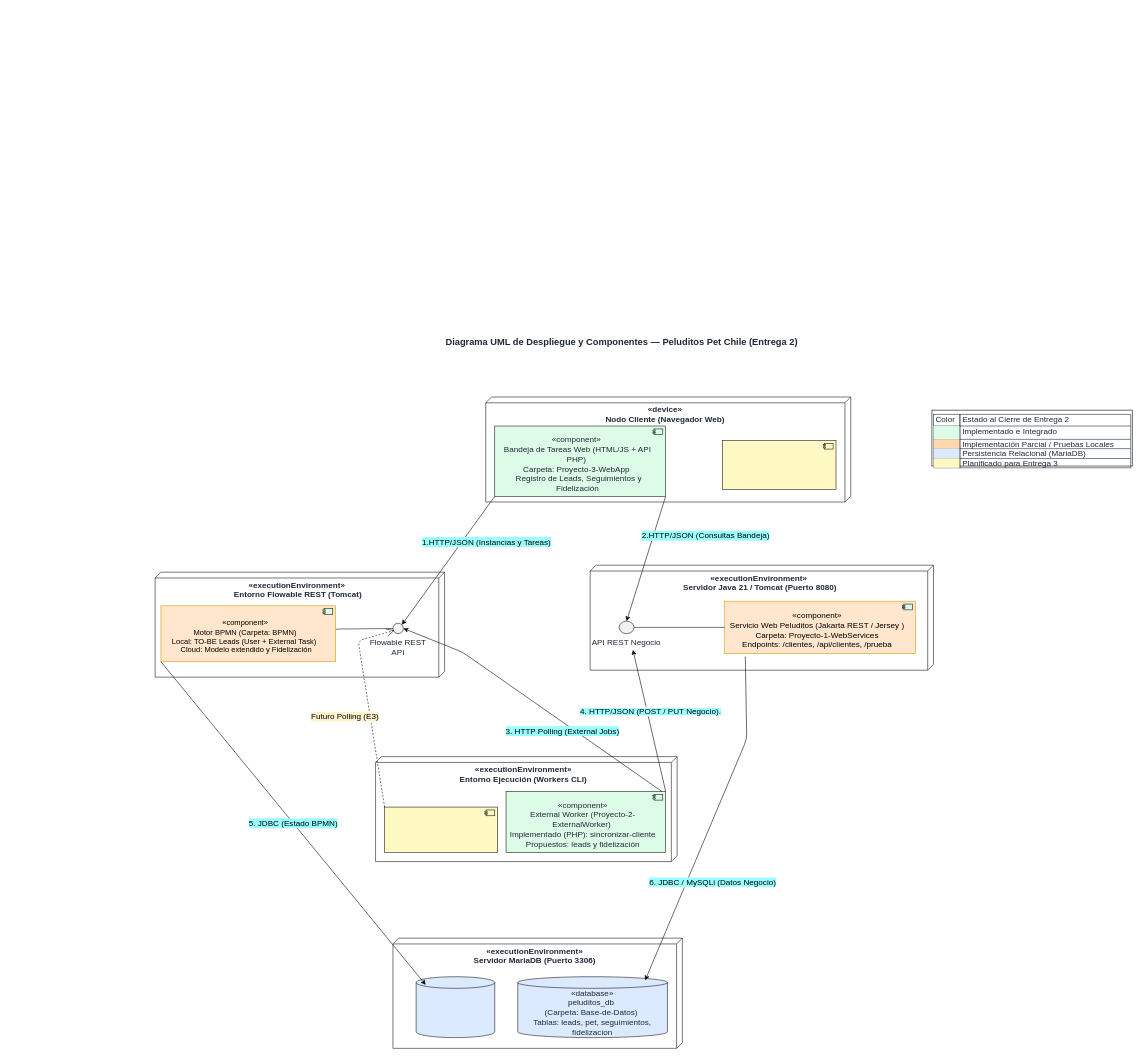
Some shapes in this 1143 by 1059 pixel diagram are drawn without their labels. The shapes that lost their labels are listed below. From the top down, each one's centre as x and y in pixels, then its label:
At (779,464): "«component» Dashboard de Métricas [Planificado Entrega 3]".
At (441,829): "«component» Worker Notificaciones (WhatsApp/Correo) [Planificado Entrega 3]".
At (455,1007): "«database» flowable_db (Persistencia Motor BPMN)".
